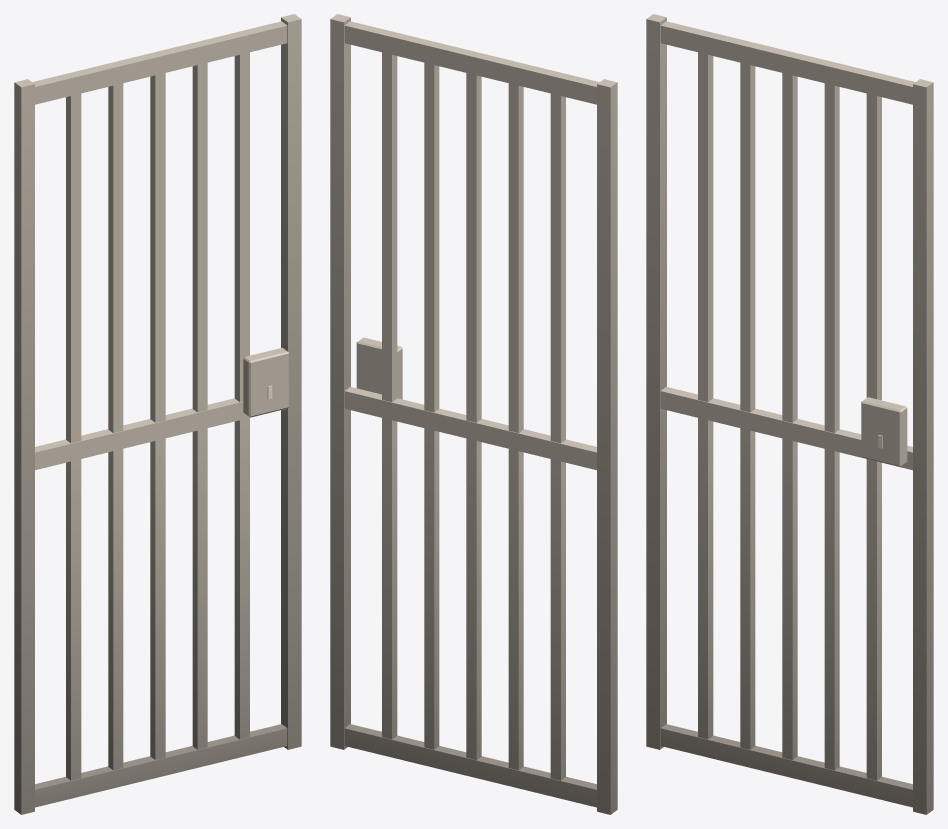
Rendered from SM_VKI_Leaf_BarsGate_Full.fbx.
The picture shows the model from 3 angles, left to right: view 1: azimuth 30°, elevation 25°; view 2: azimuth 150°, elevation 25°; view 3: azimuth 330°, elevation 25°; orthographic projection.
Parts seen in each view (by area): view 1: SM_VKI_Leaf_BarsGate_Full.001; view 2: SM_VKI_Leaf_BarsGate_Full.001; view 3: SM_VKI_Leaf_BarsGate_Full.001.
Boxes of the visible parts, left/top/right/bottom form: SM_VKI_Leaf_BarsGate_Full.001: left=14, top=14, right=301, bottom=814; SM_VKI_Leaf_BarsGate_Full.001: left=330, top=14, right=617, bottom=814; SM_VKI_Leaf_BarsGate_Full.001: left=646, top=14, right=933, bottom=814.
Size of the model in its own units: 0.83 by 2.06 by 0.075.
